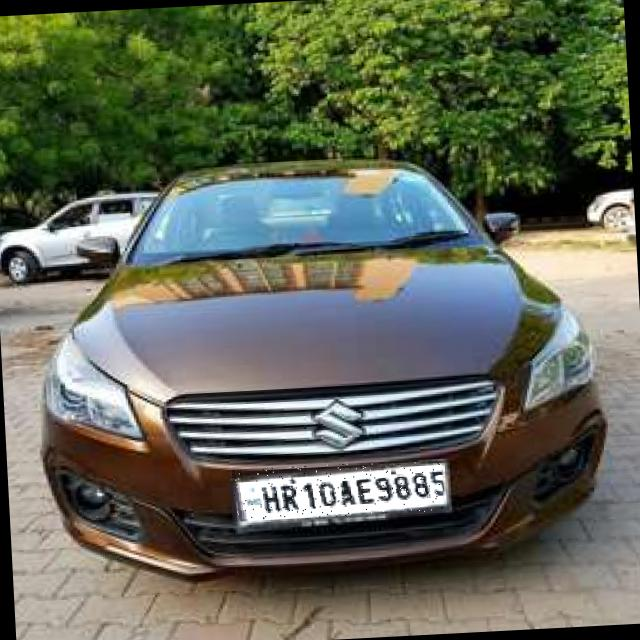Plate: (234, 460, 446, 523)
